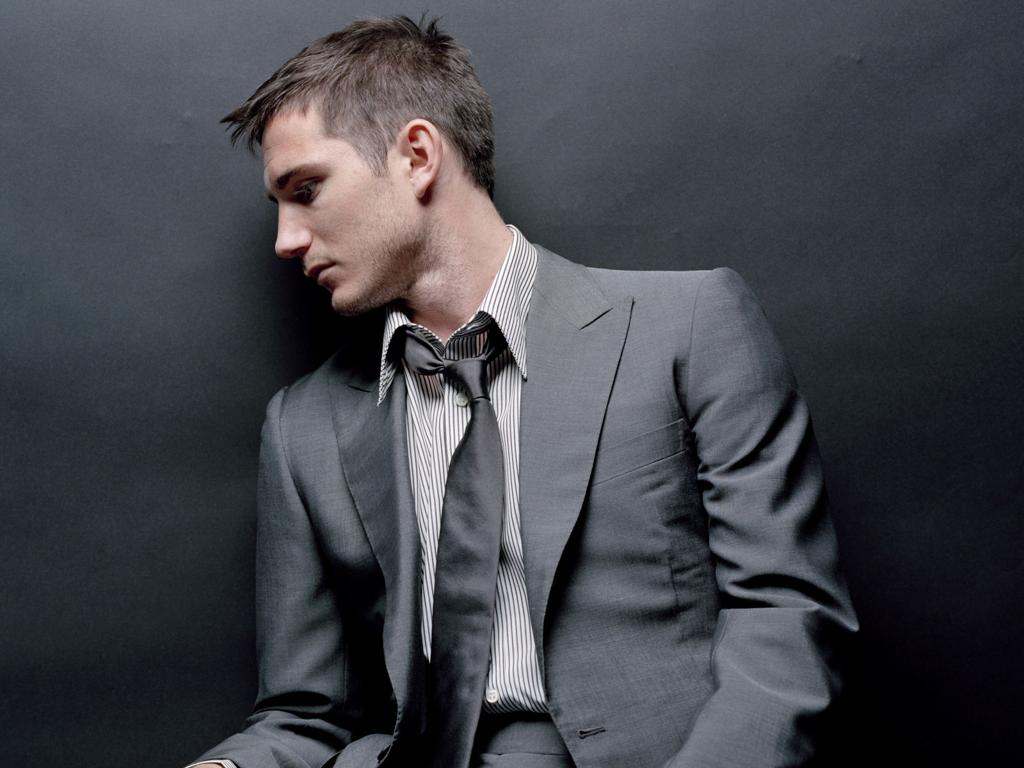face: (258, 102, 410, 306)
